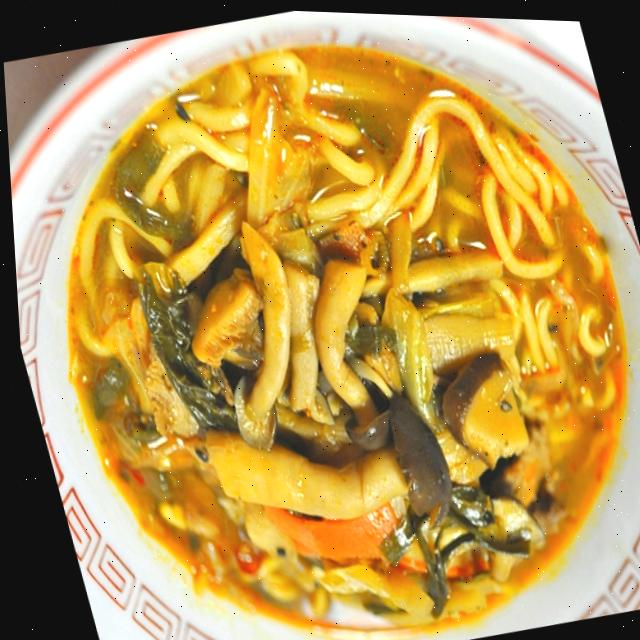面条主食: (49, 1, 637, 629)
